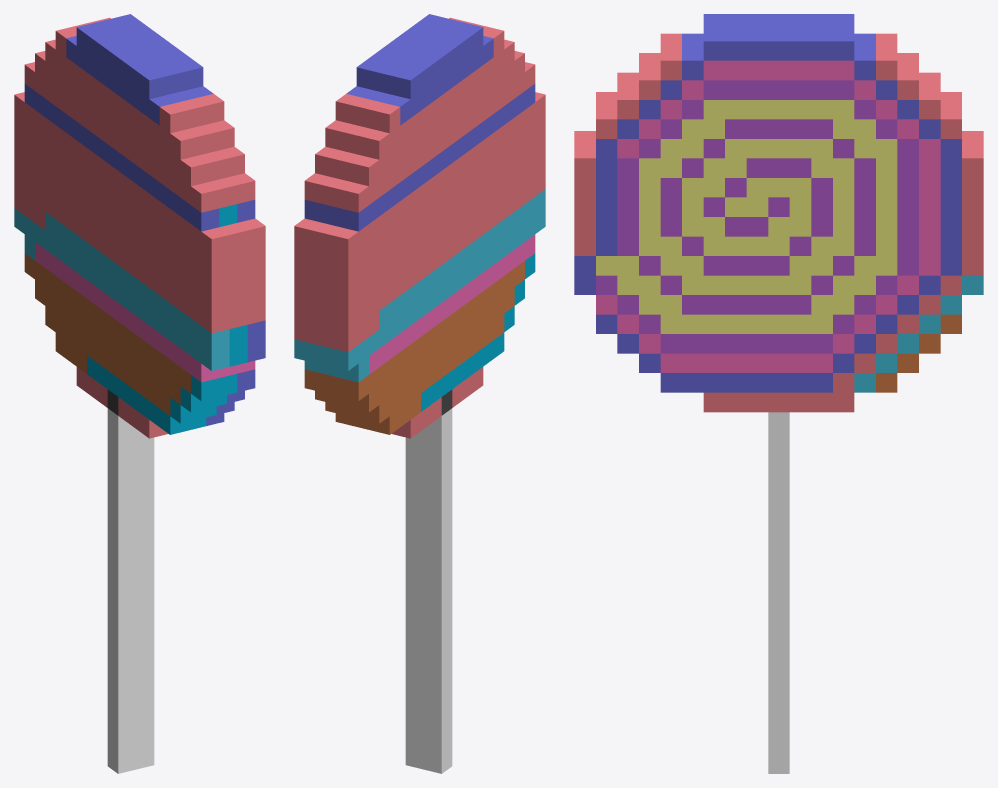
The model's file is Eruption-15.obj.
3 views of the same model, side by side, from view 1: azimuth 30°, elevation 25°; view 2: azimuth 150°, elevation 25°; view 3: azimuth 270°, elevation 25° (orthographic). The views are drawn at different scales.
Size of the model in its own units: 0.3 by 3.8 by 1.9.
Materials: 1 (1 with a texture image).
